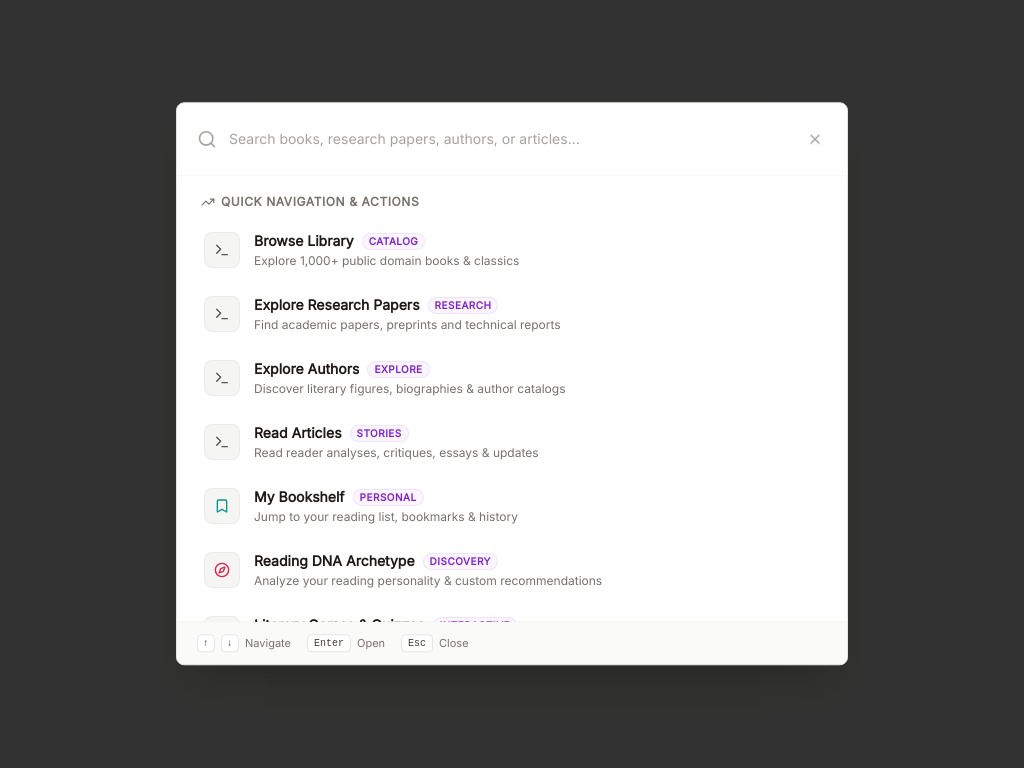
Universal Search & Cmd+K Shortcut Architecture › EnhancedGlobalSearch Command Palette & Quick Navigation › matches quick commands by query terms like "theme" or "dark mode"
In the field with placeholder "Search books, research papers, authors, or articles...": (516, 139) [229,119,803,159], type "theme"
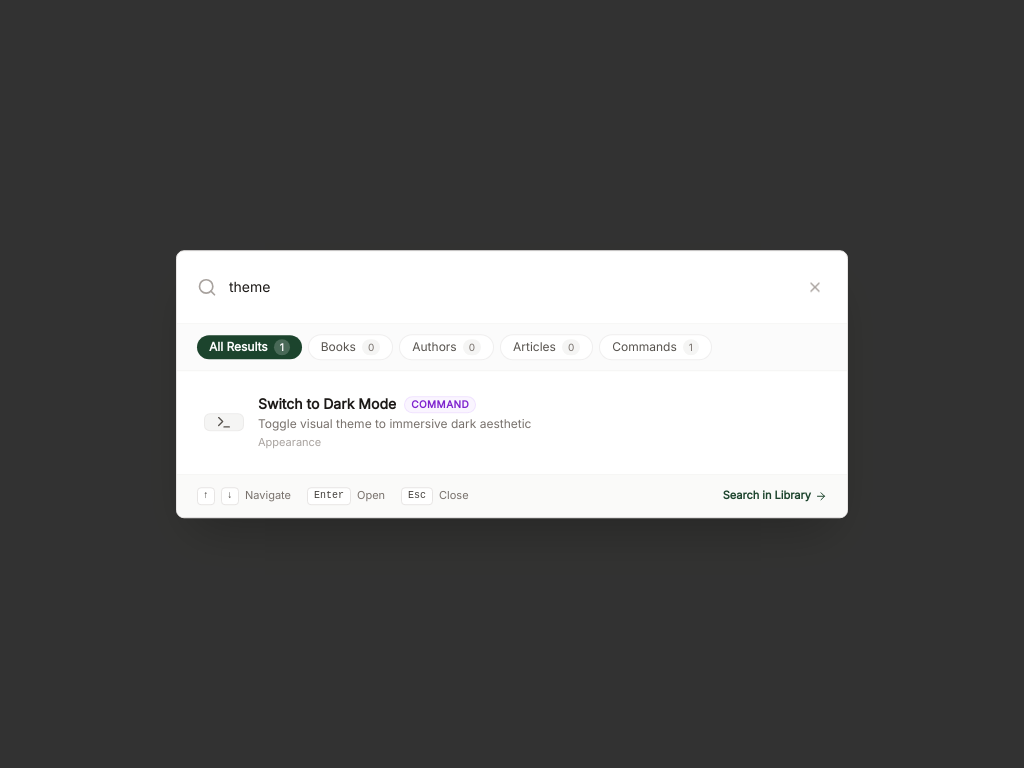
Check: the text "Switch to Dark Mode" is shown, box [258,394,396,414]
